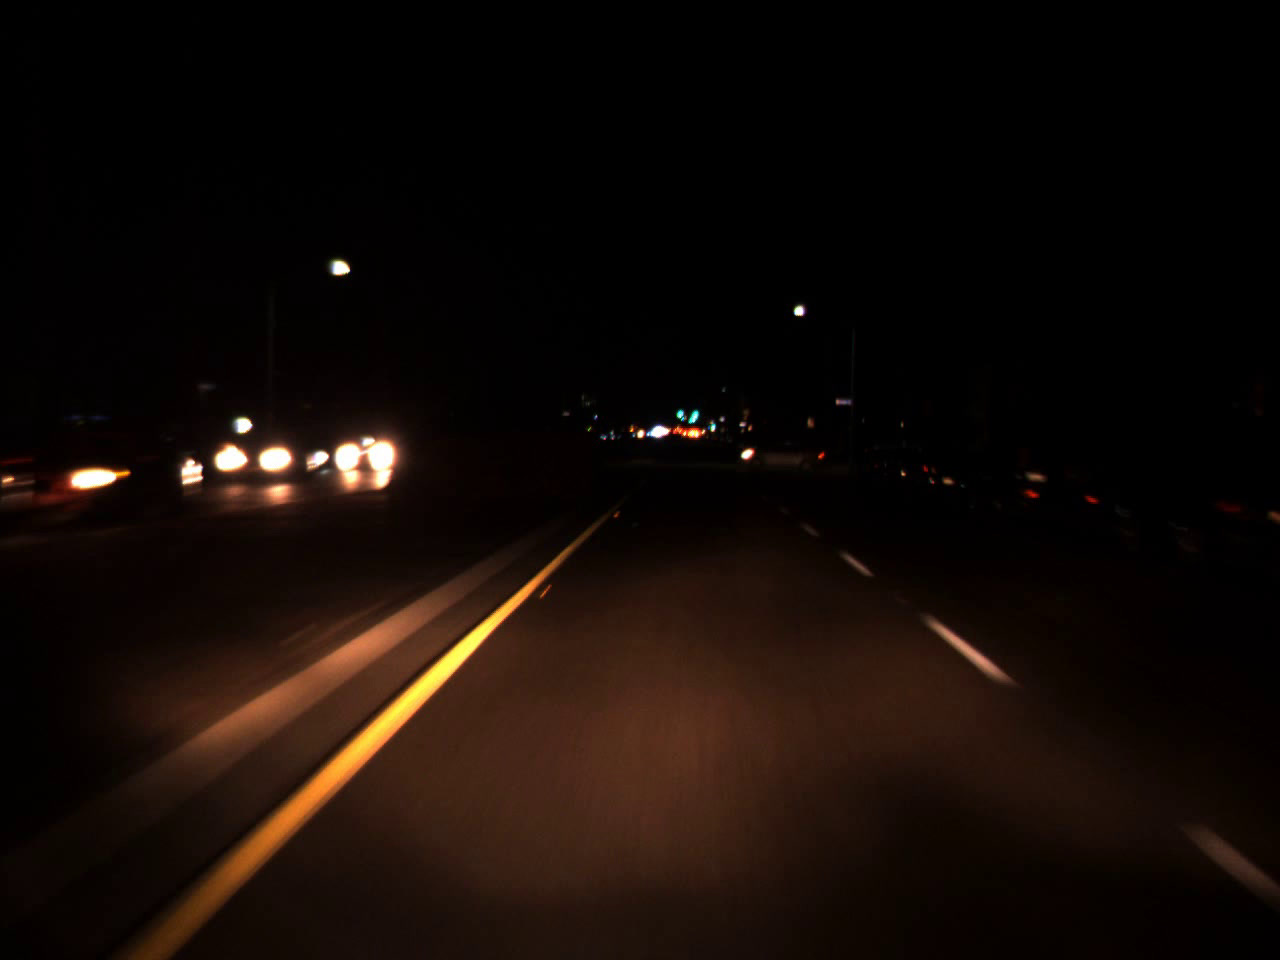go: (686, 395, 700, 428), (707, 411, 717, 435), (674, 402, 684, 419)
